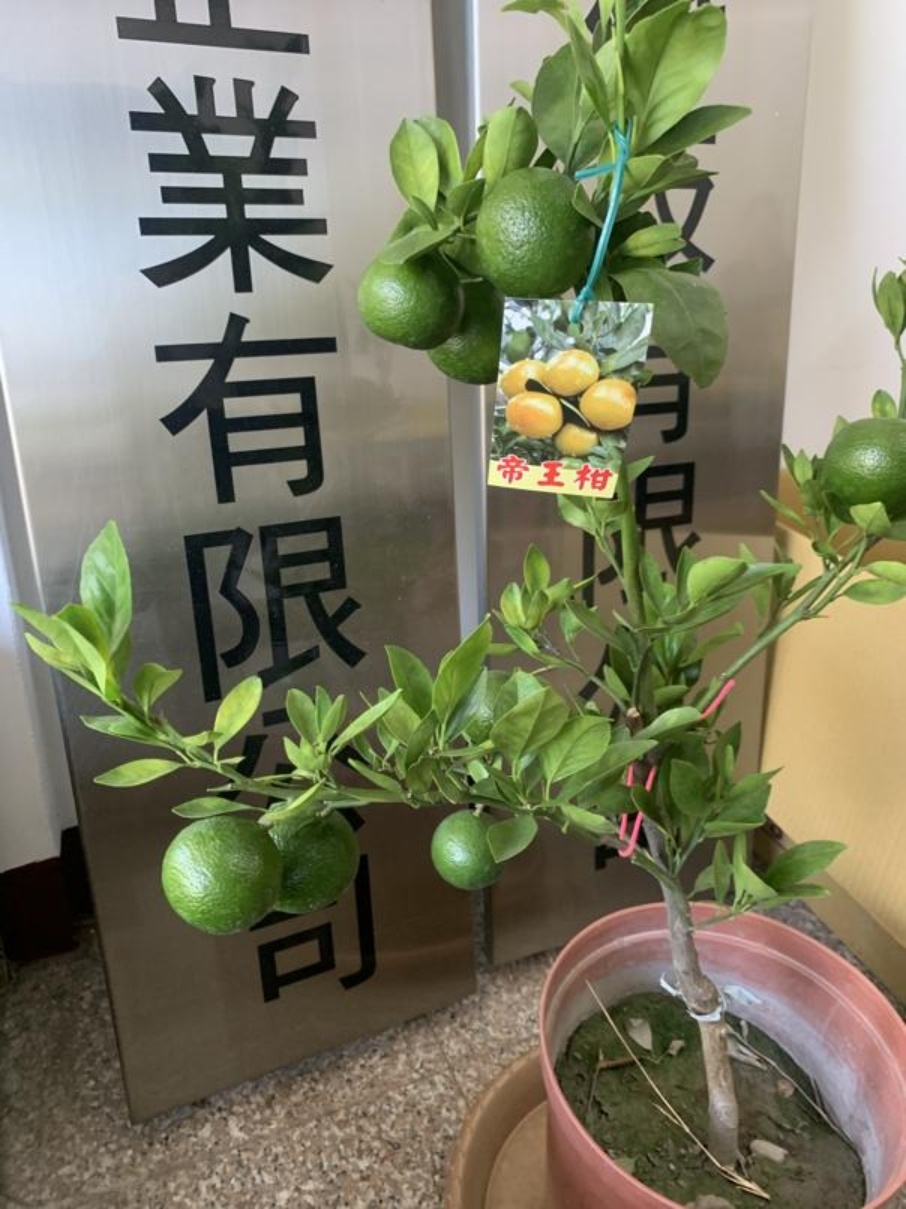Tangerine: (470, 167, 600, 299), (162, 814, 286, 940), (359, 247, 468, 352), (268, 808, 359, 914), (821, 415, 903, 531), (433, 806, 513, 891)
